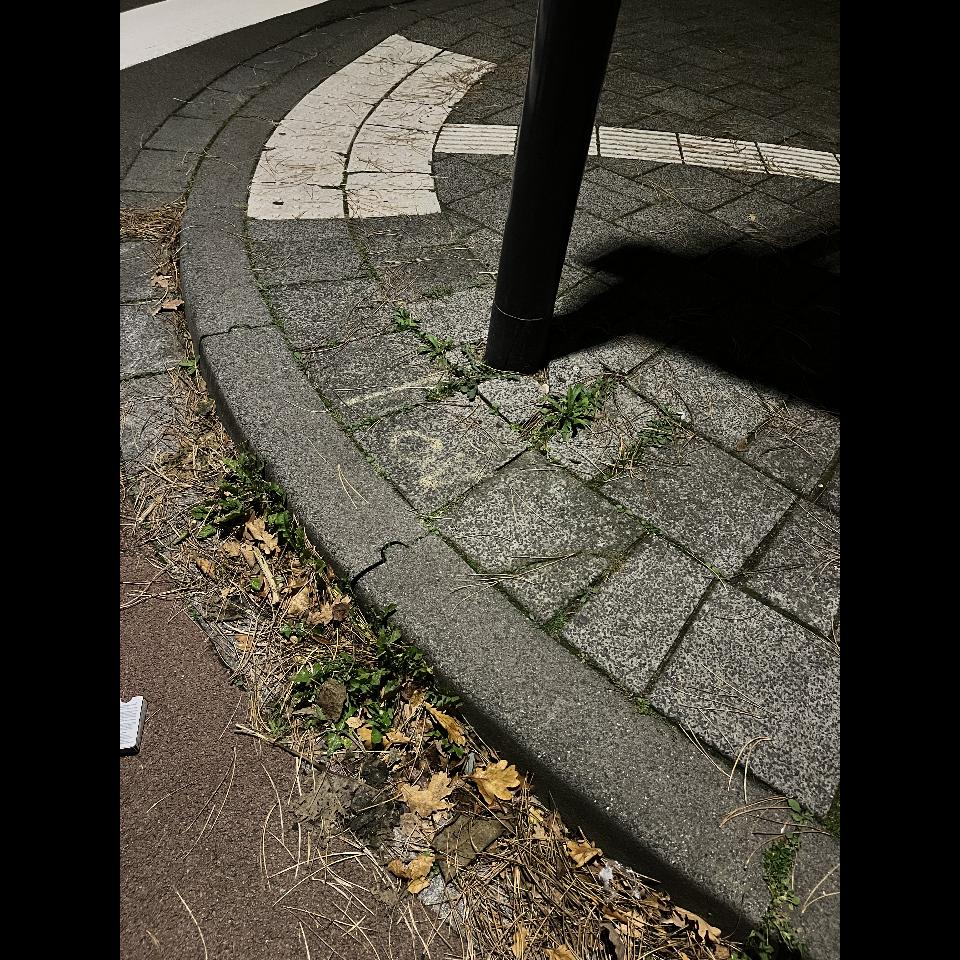weed: (363, 306, 518, 426), (215, 454, 325, 572), (679, 546, 727, 580)
